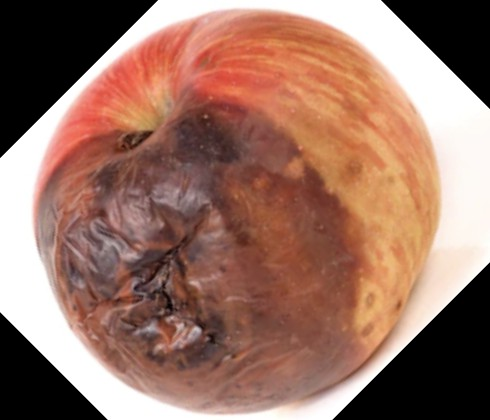rotten_apple: (33, 7, 443, 417)
